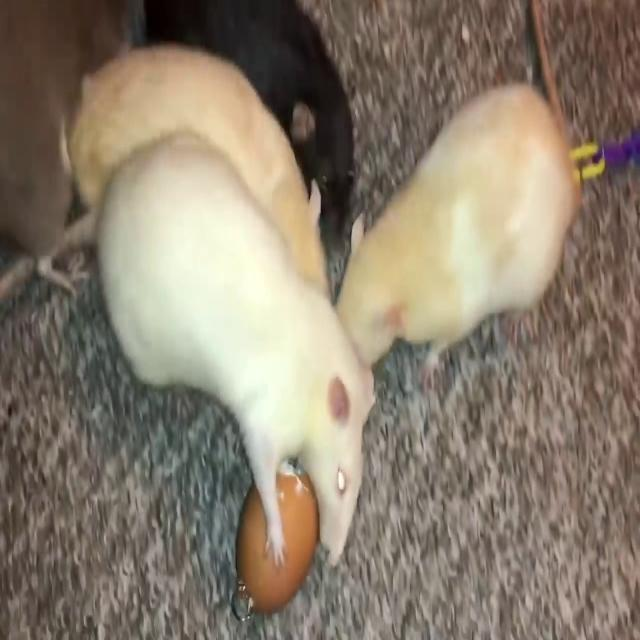rat: (105, 154, 367, 563), (350, 102, 594, 361), (230, 6, 362, 220)
